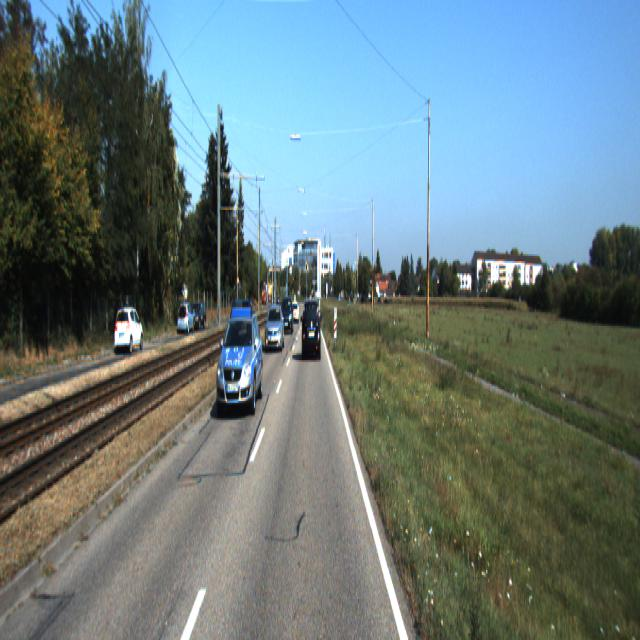Car: (216, 296, 265, 417), (114, 307, 144, 357), (302, 298, 322, 361), (265, 304, 285, 353), (177, 303, 195, 337), (190, 300, 207, 333), (281, 297, 294, 336)
